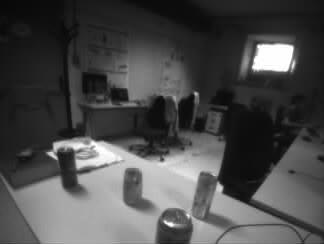Tin can: (156, 207, 192, 244), (195, 172, 214, 220), (123, 168, 144, 206), (59, 146, 76, 188)
